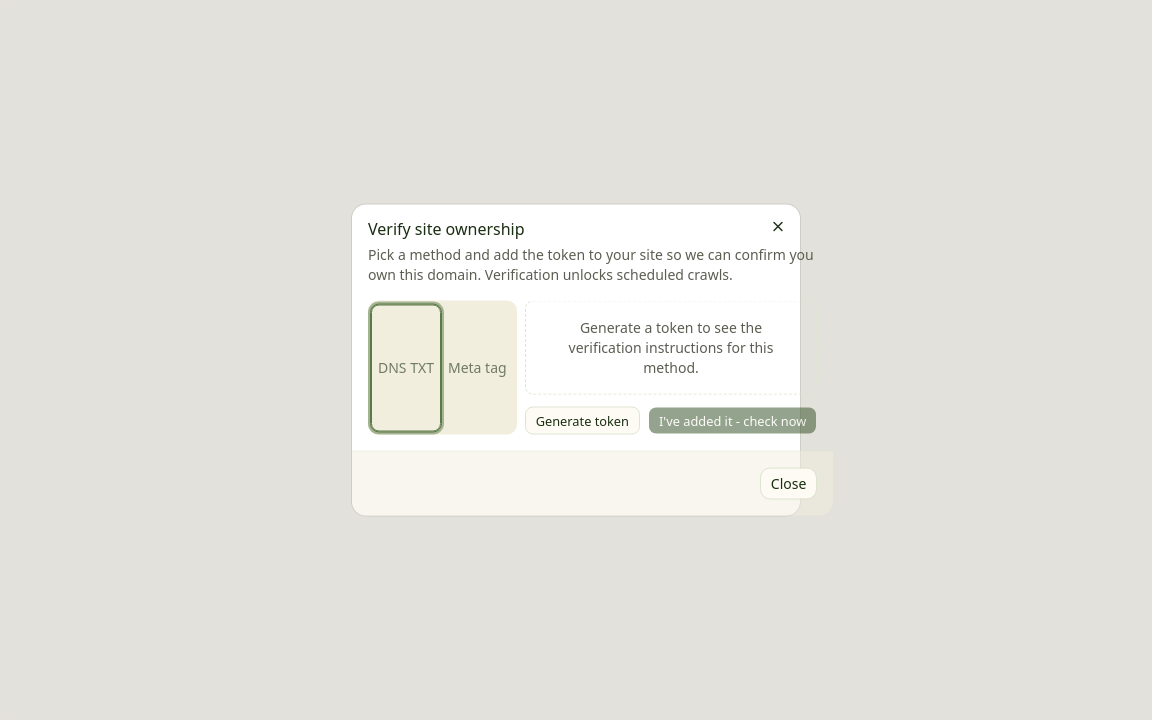
Test: VerificationDialog › renders generated token + instructions after Generate token
Expected: the heading "Verify site ownership" is shown, left=368, top=218, right=525, bottom=240
Click the button "Generate token". click: [582, 420]
box: left=525, top=406, right=640, bottom=434
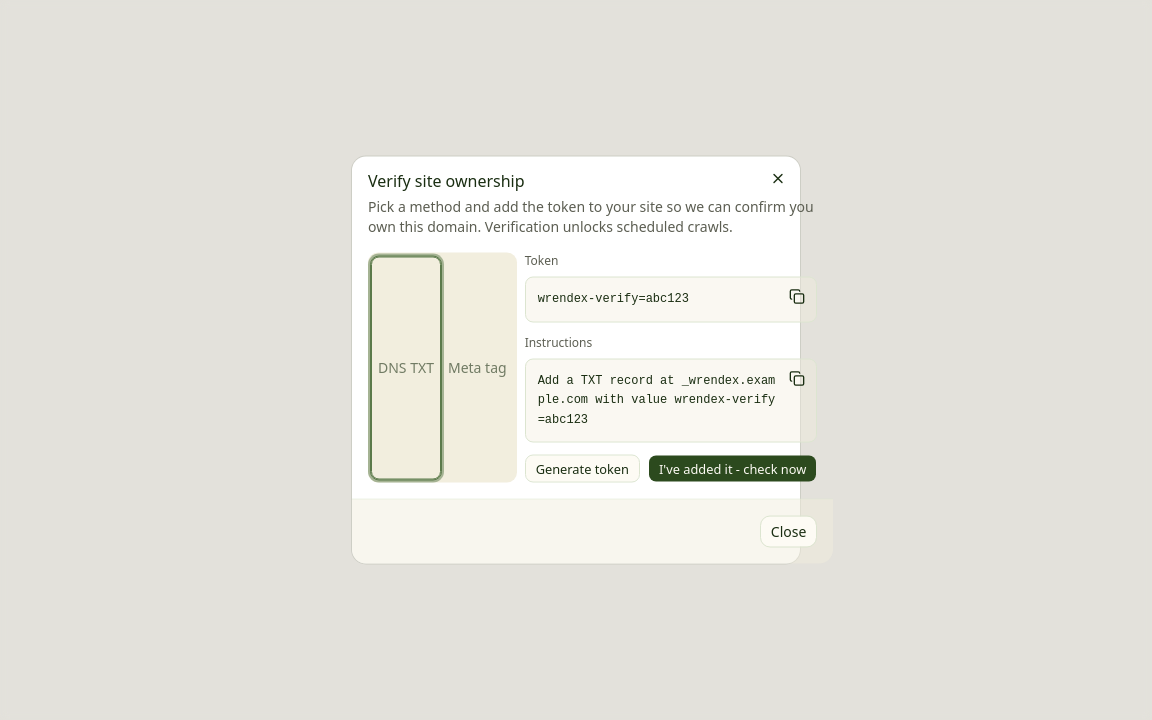
Expected: the text "wrendex-verify=abc123" is shown, left=525, top=276, right=817, bottom=322
Expected: the text "Add a TXT record at _wrendex.example.com" is shown, left=538, top=373, right=775, bottom=426
